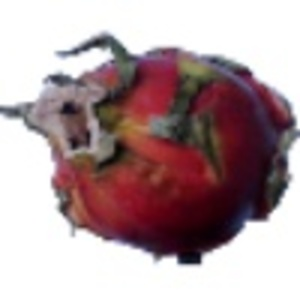pitaia: (1, 30, 300, 267)
